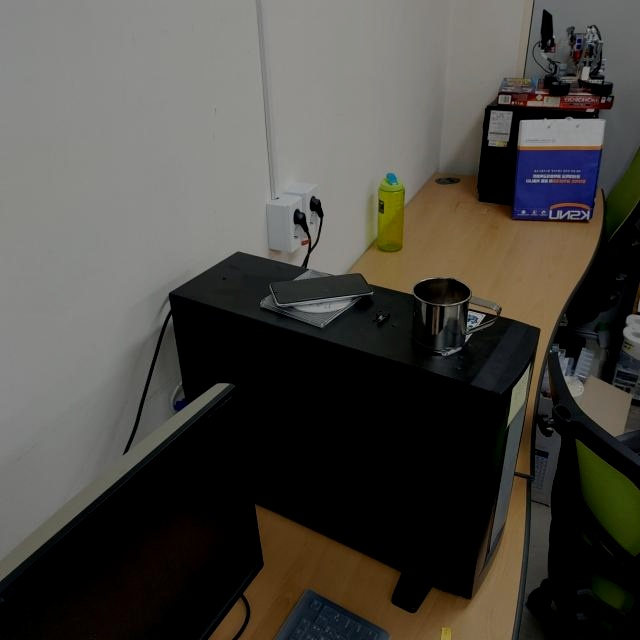cup: (410, 276, 502, 359)
phone: (268, 269, 378, 311)
